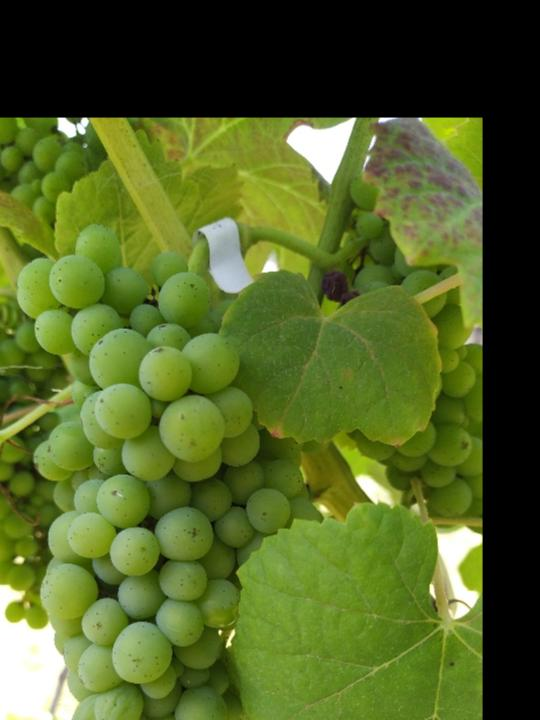grape: (14, 221, 331, 720)
